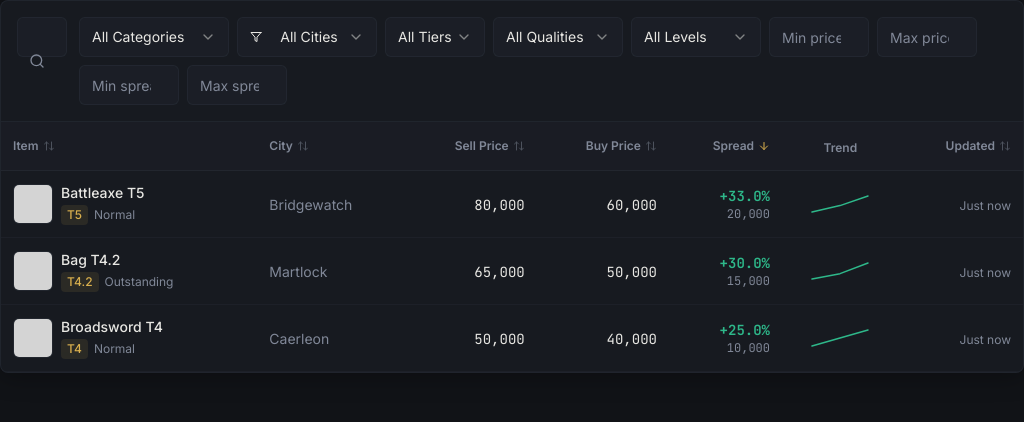
PriceTable — Clear All e indicador (AC3, AC4) › exibe botão Clear All quando filtros estão ativos
In the number field with placeholder "Min price": {"x": 819, "y": 37} x1=769 y1=17 x2=869 y2=57, type "1000"
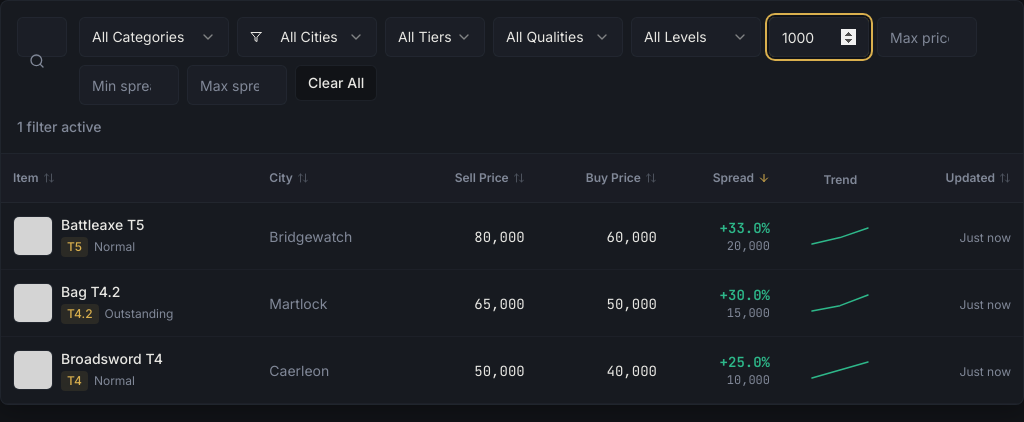
expect the button "Clear All" is shown: met, box x1=295 y1=65 x2=377 y2=101
